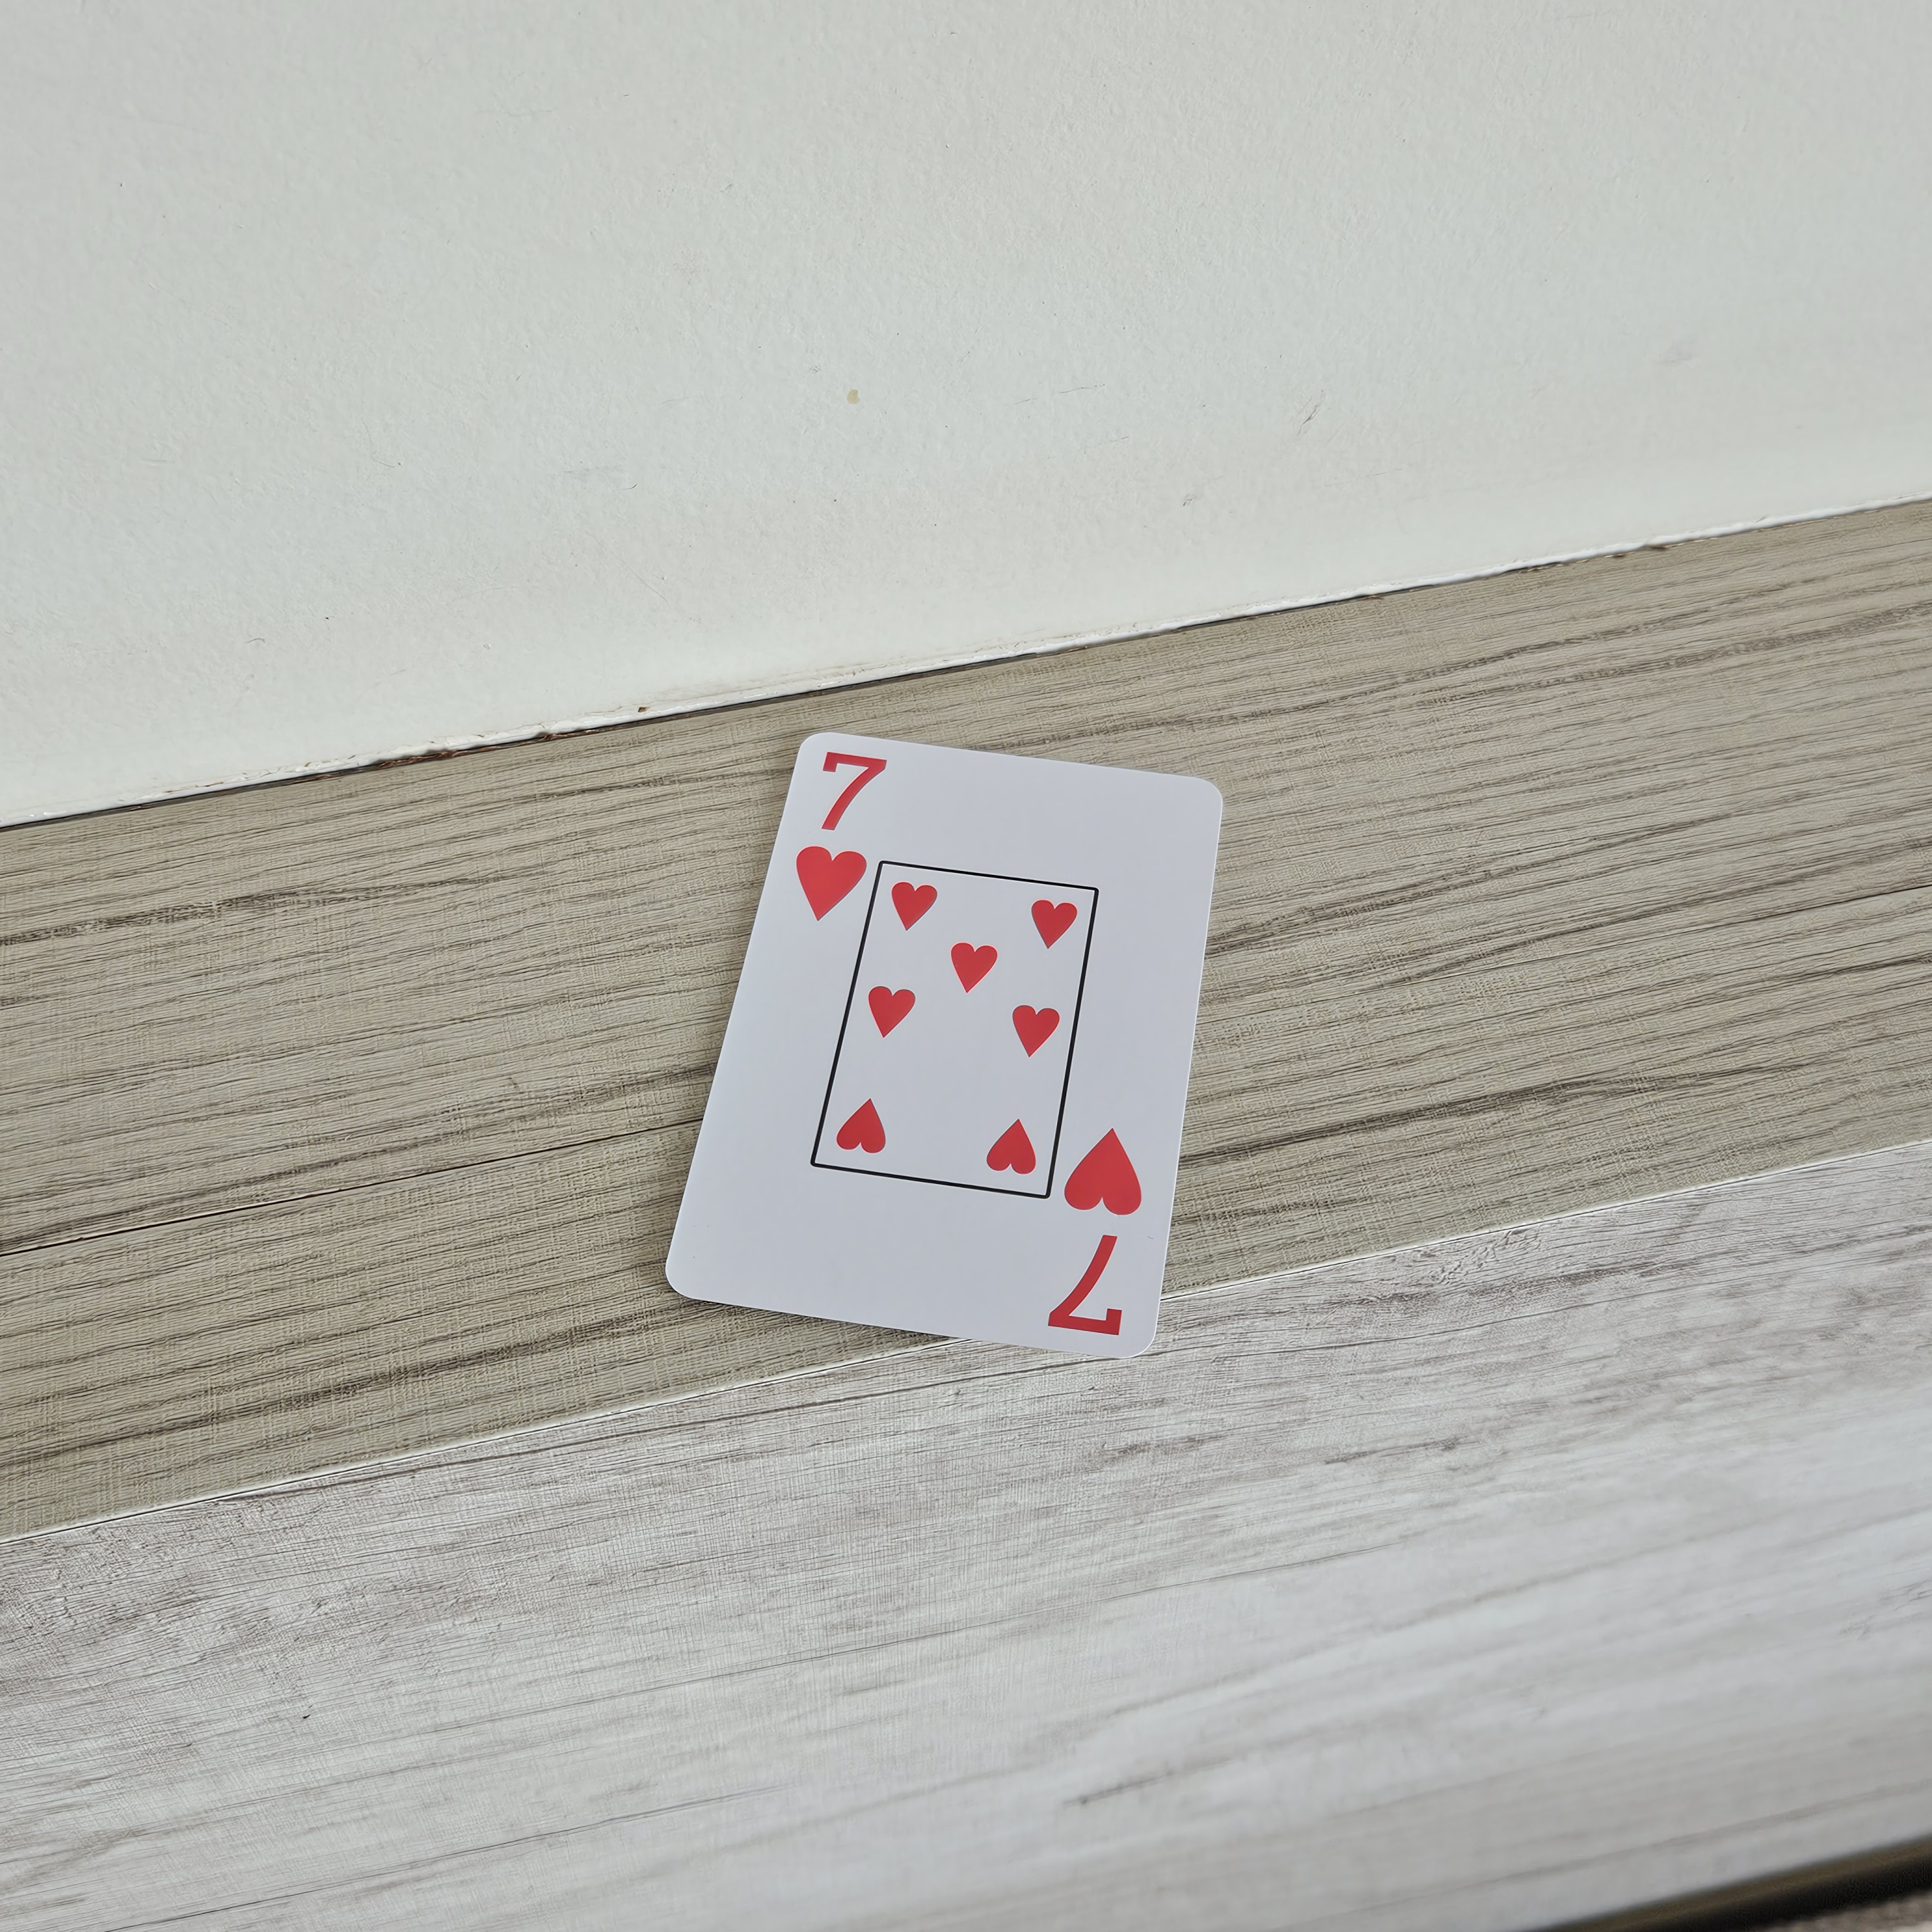7C: (1037, 1120, 1154, 1345), (786, 738, 886, 929)
